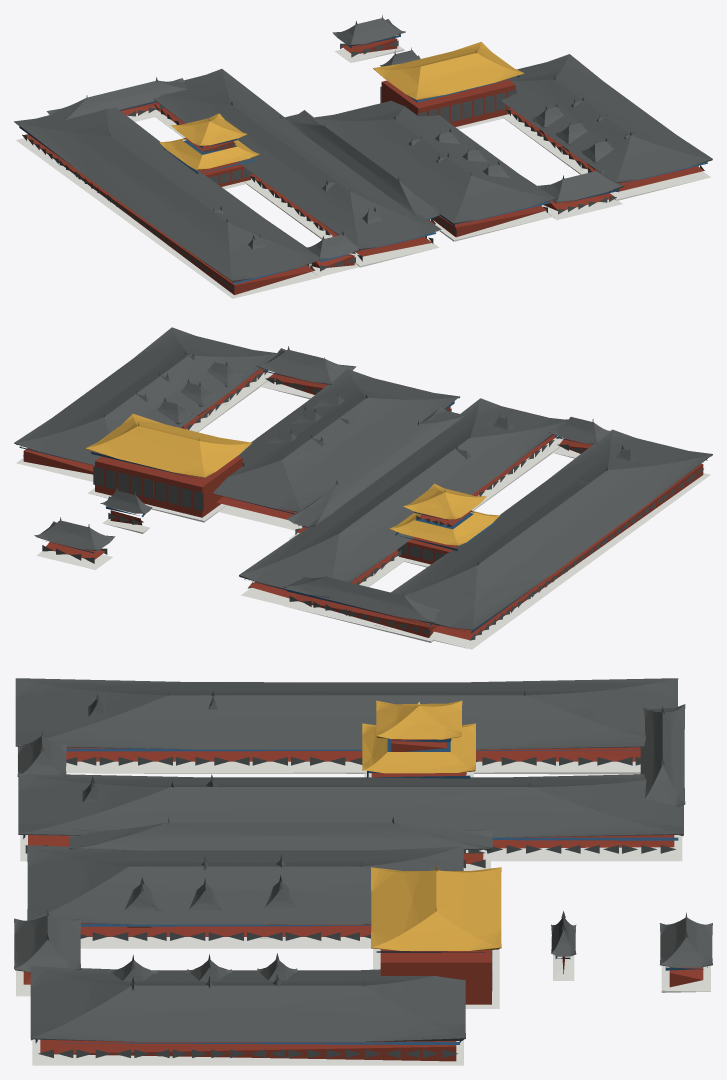
The model's file is confucius-guozijian-far-f5149c6900.glb.
3 views of the same model, one above another, from view 1: azimuth 30°, elevation 25°; view 2: azimuth 150°, elevation 25°; view 3: azimuth 270°, elevation 25° (orthographic). The views are drawn at different scales.
Visible parts, largest first — view 1: confucius-guozijian coarse.001; view 2: confucius-guozijian coarse.001; view 3: confucius-guozijian coarse.001.
Part boxes in pixels (x1=…): confucius-guozijian coarse.001: x1=14, y1=15, x2=712, y2=298; confucius-guozijian coarse.001: x1=14, y1=327, x2=712, y2=649; confucius-guozijian coarse.001: x1=14, y1=678, x2=712, y2=1065.
Size of the model in its own units: 221 by 25 by 181.
